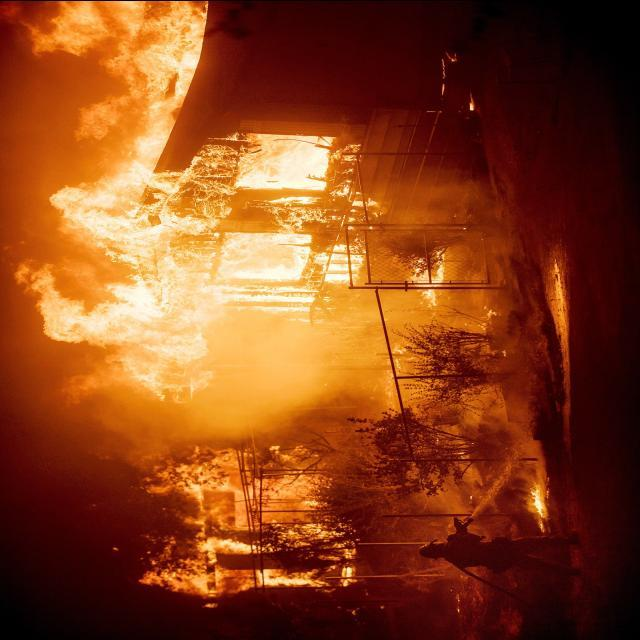Fire: (30, 2, 352, 400), (132, 444, 360, 602)
